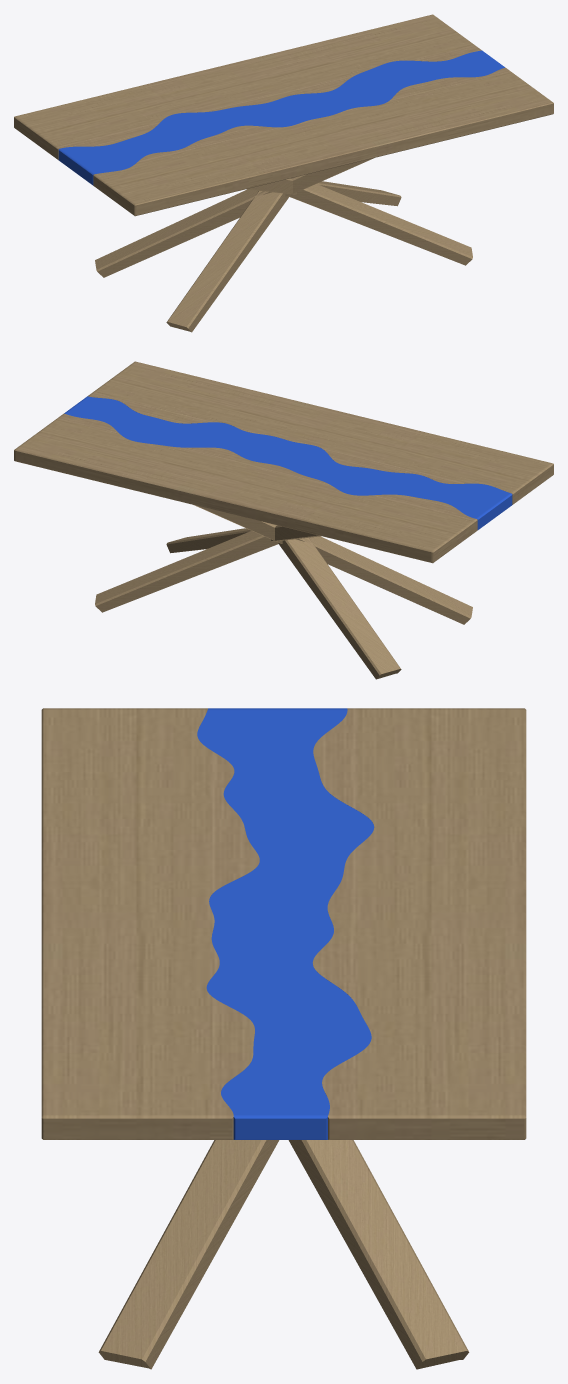
Rendered from rectangular-ash-epoxy-sapphire.glb.
3 renders of one model, top to bottom at view 1: azimuth 30°, elevation 25°; view 2: azimuth 150°, elevation 25°; view 3: azimuth 270°, elevation 25°, orthographic. The views are drawn at different scales.
Visible parts, largest first — view 1: Wood_Rectangular_EpoxyFar, Wood_Rectangular_EpoxyNear, Base_target, Resin_Rectangular; view 2: Wood_Rectangular_EpoxyNear, Wood_Rectangular_EpoxyFar, Base_target, Resin_Rectangular; view 3: Wood_Rectangular_EpoxyNear, Wood_Rectangular_EpoxyFar, Resin_Rectangular, Base_target.
Boxes of the visible parts, left/top/right/bottom form: Wood_Rectangular_EpoxyFar: left=93, top=67, right=553, bottom=216; Wood_Rectangular_EpoxyNear: left=14, top=14, right=481, bottom=159; Base_target: left=95, top=158, right=472, bottom=332; Resin_Rectangular: left=58, top=50, right=504, bottom=185; Wood_Rectangular_EpoxyNear: left=14, top=413, right=477, bottom=563; Wood_Rectangular_EpoxyFar: left=88, top=361, right=553, bottom=504; Base_target: left=95, top=505, right=472, bottom=679; Resin_Rectangular: left=64, top=396, right=512, bottom=529; Wood_Rectangular_EpoxyNear: left=312, top=708, right=526, bottom=1139; Wood_Rectangular_EpoxyFar: left=41, top=708, right=259, bottom=1139; Resin_Rectangular: left=197, top=708, right=374, bottom=1139; Base_target: left=98, top=1140, right=469, bottom=1369.
Size of the model in its own units: 2.13 by 0.762 by 1.07.
Materials: 2 (1 with a texture image).
